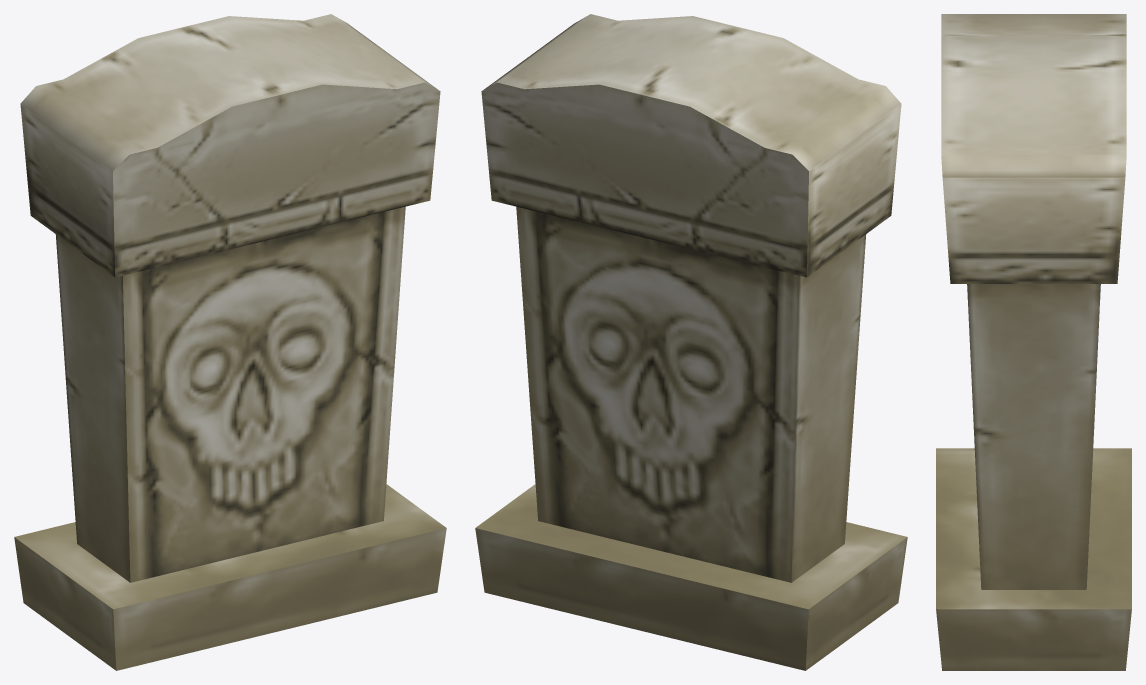
The model's file is Siwang_Buf_002_2.FBX.
The picture shows the model from 3 angles, left to right: view 1: azimuth 30°, elevation 25°; view 2: azimuth 150°, elevation 25°; view 3: azimuth 270°, elevation 25°; orthographic projection.
Parts seen in each view (by area): view 1: mubei_1; view 2: mubei_1; view 3: mubei_1.
Part boxes in pixels (x1=…): mubei_1: x1=14, y1=14, x2=446, y2=670; mubei_1: x1=475, y1=14, x2=907, y2=670; mubei_1: x1=936, y1=14, x2=1131, y2=670.
Size of the model in its own units: 4694 by 7214 by 2413.
